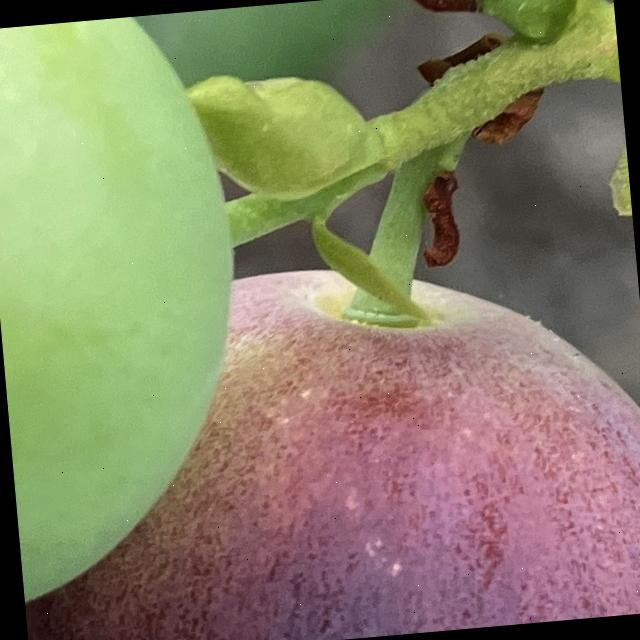Blueberries: (0, 225, 640, 640), (0, 8, 261, 615)
